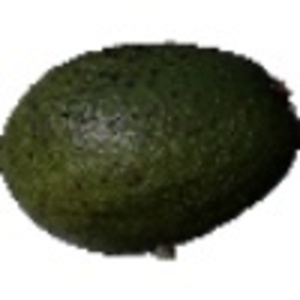abacate: (2, 36, 297, 252)
